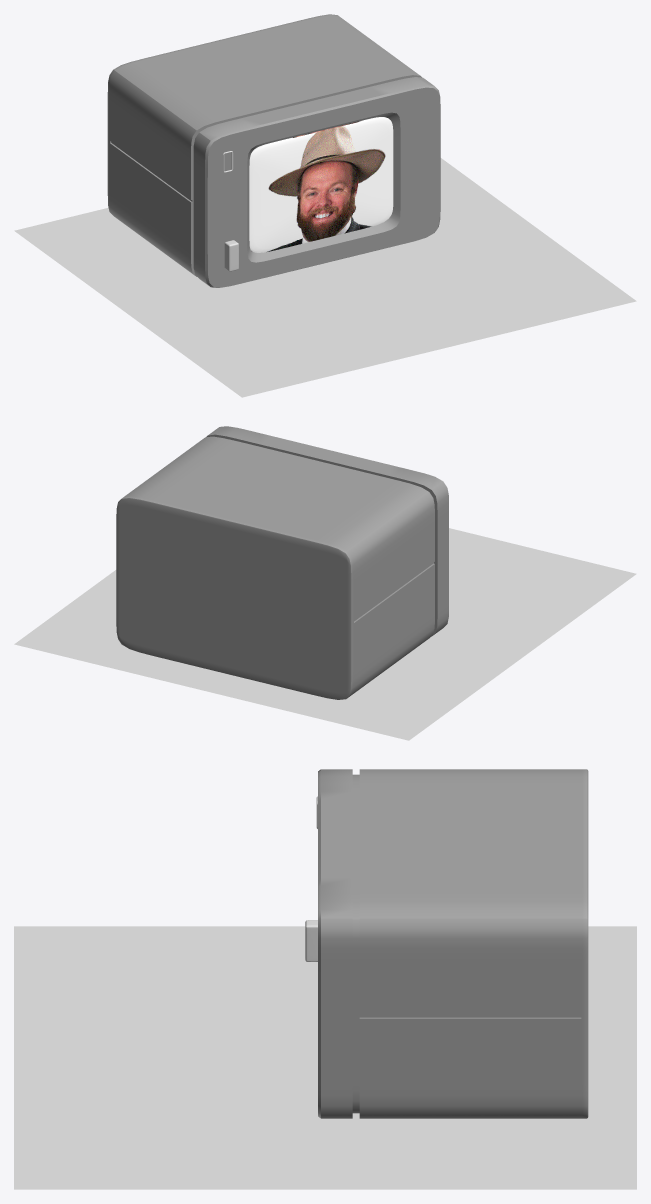
The model's file is testUV7.gltf.
The picture shows the model from 3 angles, top to bottom: view 1: azimuth 30°, elevation 25°; view 2: azimuth 150°, elevation 25°; view 3: azimuth 270°, elevation 25°; orthographic projection. The views are drawn at different scales.
Visible parts, largest first — view 1: Plane.001, Case, Glass; view 2: Case, Plane.001; view 3: Plane.001, Case.
Boxes of the visible parts, x1,y1,x2,y2 form: Plane.001: [14, 158, 636, 397]; Case: [107, 14, 440, 287]; Glass: [249, 117, 393, 252]; Case: [116, 426, 448, 699]; Plane.001: [14, 528, 636, 740]; Plane.001: [14, 926, 636, 1189]; Case: [318, 769, 588, 1118].
Bounding box in the file's own units: 5.37 × 2.2 × 5.37.
Materials: 3 (1 with a texture image).
